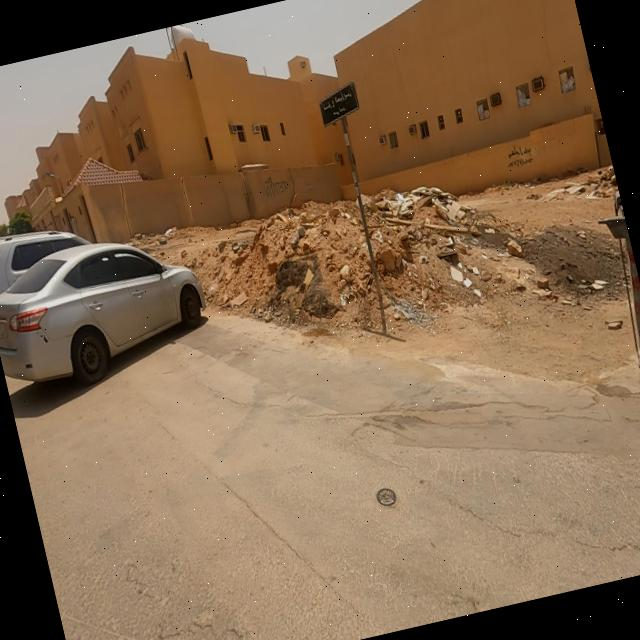Graffiti: (504, 140, 536, 173), (262, 173, 292, 202)
